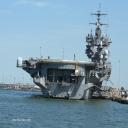Portanaves: (17, 3, 115, 101)
